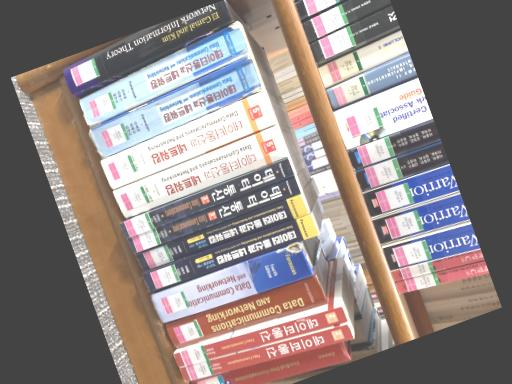book-spine: (89, 54, 262, 159), (78, 21, 248, 127), (99, 91, 275, 189), (112, 125, 287, 218), (63, 0, 232, 95), (119, 158, 294, 238), (142, 214, 318, 293), (134, 194, 308, 271), (151, 241, 314, 323), (127, 176, 300, 253), (165, 275, 327, 348), (173, 306, 347, 367), (179, 325, 353, 382), (189, 342, 351, 384)
